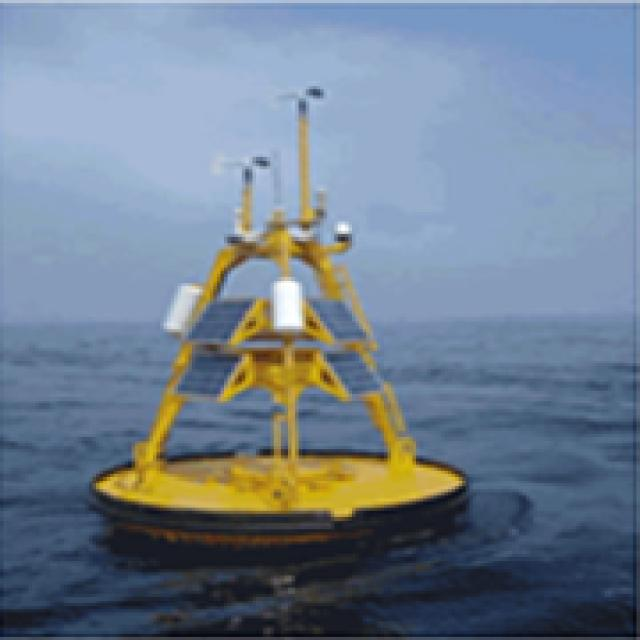2.5 sepcial mark: (70, 56, 486, 553)
